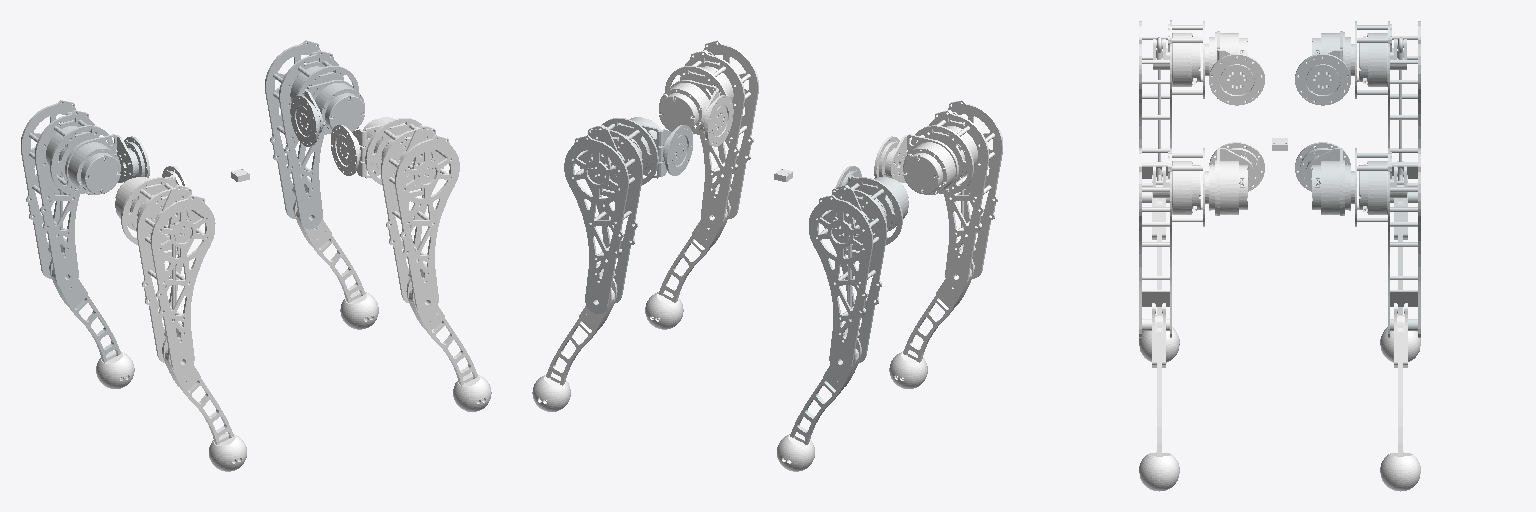
URDF robot description (newdog6):
<?xml version="1.0" encoding="utf-8"?>
<!-- This URDF was automatically created by SolidWorks to URDF Exporter! Originally created by Stephen Brawner (brawner@gmail.com) 
     Commit Version: 1.6.0-4-g7f85cfe  Build Version: 1.6.7995.38578
     For more information, please see http://wiki.ros.org/sw_urdf_exporter -->
<robot
  name="newdog6">
  <link
    name="base_link">
    <inertial>
      <origin
        xyz="3.33066907387547E-16 -1.52308721190764E-15 8.67361737988404E-19"
        rpy="0 0 0" />
      <mass
        value="0.0010000" />
      <inertia
        ixx="0.0000000"
        ixy="0.0000000"
        ixz="0.0000000"
        iyy="0.0000000"
        iyz="0.0000000"
        izz="0.0000000" />
    </inertial>
    <visual>
      <origin
        xyz="0 0 0"
        rpy="0 0 0" />
      <geometry>
        <mesh
          filename="package://newdog6/meshes/base_link.STL" />
      </geometry>
      <material
        name="">
        <color
          rgba="1 1 1 1" />
      </material>
    </visual>
    <collision>
      <origin
        xyz="0 0 0"
        rpy="0 0 0" />
      <geometry>
        <mesh
          filename="package://newdog6/meshes/base_link.STL" />
      </geometry>
    </collision>
  </link>
  <link
    name="trunk_link">
    <inertial>
      <origin
        xyz="-0.000914596355784433 -0.00588588083227733 -0.010166690928992"
        rpy="0 0 0" />
      <mass
        value="4.6043039" />
      <inertia
        ixx="0.0304155"
        ixy="-0.0001536"
        ixz="-0.0000979"
        iyy="0.0576475"
        iyz="0.0001516"
        izz="0.0768428" />
    </inertial>
    <visual>
      <origin
        xyz="0 0 0"
        rpy="0 0 0" />
      <geometry>
        <mesh
          filename="package://newdog6/meshes/trunk_link.STL" />
      </geometry>
      <material
        name="">
        <color
          rgba="0 1 1 1" />
      </material>
    </visual>
    <collision>
      <origin
        xyz="0 0 0"
        rpy="0 0 0" />
      <geometry>
        <mesh
          filename="package://newdog6/meshes/trunk_link.STL" />
      </geometry>
    </collision>
  </link>
  <joint
    name="trunk_joint"
    type="fixed">
    <origin
      xyz="0 0 0"
      rpy="0 0 0" />
    <parent
      link="base_link" />
    <child
      link="trunk_link" />
    <axis
      xyz="0 0 0" />
  </joint>
  <link
    name="FL_hip_link">
    <inertial>
      <origin
        xyz="-0.0276629050724052 0.016035850006277 -4.34859680496094E-05"
        rpy="0 0 0" />
      <mass
        value="1.0790672" />
      <inertia
        ixx="0.0008140"
        ixy="-0.0001481"
        ixz="-0.0000001"
        iyy="0.0015634"
        iyz="-0.0000034"
        izz="0.0013876" />
    </inertial>
    <visual>
      <origin
        xyz="0 0 0"
        rpy="0 0 0" />
      <geometry>
        <mesh
          filename="package://newdog6/meshes/FL_hip_link.STL" />
      </geometry>
      <material
        name="">
        <color
          rgba="0.898039215686275 0.917647058823529 0.929411764705882 1" />
      </material>
    </visual>
    <collision>
      <origin
        xyz="0 0 0"
        rpy="0 0 0" />
      <geometry>
        <mesh
          filename="package://newdog6/meshes/FL_hip_link.STL" />
      </geometry>
    </collision>
  </link>
  <joint
    name="FL_hip_joint"
    type="revolute">
    <origin
      xyz="0.219736600000002 0.0625499999999842 0"
      rpy="0 0 0" />
    <parent
      link="trunk_link" />
    <child
      link="FL_hip_link" />
    <axis
      xyz="-1 0 0" />
    <limit
      lower="-3.14"
      upper="3.14"
      effort="100"
      velocity="100" />
  </joint>
  <link
    name="FL_thigh_link">
    <inertial>
      <origin
        xyz="-0.00210612954326371 -0.017979133783313 -0.0414558494179686"
        rpy="0 0 0" />
      <mass
        value="0.9731943" />
      <inertia
        ixx="0.0041173"
        ixy="0.0000197"
        ixz="-0.0000843"
        iyy="0.0037838"
        iyz="0.0005416"
        izz="0.0012491" />
    </inertial>
    <visual>
      <origin
        xyz="0 0 0"
        rpy="0 0 0" />
      <geometry>
        <mesh
          filename="package://newdog6/meshes/FL_thigh_link.STL" />
      </geometry>
      <material
        name="">
        <color
          rgba="0.898039215686275 0.917647058823529 0.929411764705882 1" />
      </material>
    </visual>
    <collision>
      <origin
        xyz="0 0 0"
        rpy="0 0 0" />
      <geometry>
        <mesh
          filename="package://newdog6/meshes/FL_thigh_link.STL" />
      </geometry>
    </collision>
  </link>
  <joint
    name="FL_thigh_joint"
    type="revolute">
    <origin
      xyz="0 0.113000000000016 4.99999999798882E-05"
      rpy="0 0 0" />
    <parent
      link="FL_hip_link" />
    <child
      link="FL_thigh_link" />
    <axis
      xyz="0 -1 0" />
    <limit
      lower="-3.14"
      upper="3.14"
      effort="100"
      velocity="100" />
  </joint>
  <link
    name="FL_calf_link">
    <inertial>
      <origin
        xyz="0.029709682929484 0 -0.0541898203319179"
        rpy="0 0 0" />
      <mass
        value="0.1721409" />
      <inertia
        ixx="0.0006017"
        ixy="0.0000000"
        ixz="0.0003146"
        iyy="0.0007876"
        iyz="0.0000000"
        izz="0.0001958" />
    </inertial>
    <visual>
      <origin
        xyz="0 0 0"
        rpy="0 0 0" />
      <geometry>
        <mesh
          filename="package://newdog6/meshes/FL_calf_link.STL" />
      </geometry>
      <material
        name="">
        <color
          rgba="1 1 1 1" />
      </material>
    </visual>
    <collision>
      <origin
        xyz="0 0 0"
        rpy="0 0 0" />
      <geometry>
        <mesh
          filename="package://newdog6/meshes/FL_calf_link.STL" />
      </geometry>
    </collision>
  </link>
  <joint
    name="FL_calf_joint"
    type="revolute">
    <origin
      xyz="0 0 -0.22"
      rpy="0 0 0" />
    <parent
      link="FL_thigh_link" />
    <child
      link="FL_calf_link" />
    <axis
      xyz="0 -1 0" />
    <limit
      lower="-3.14"
      upper="3.14"
      effort="100"
      velocity="100" />
  </joint>
  <link
    name="FL_foot_link">
    <inertial>
      <origin
        xyz="-0.000434487403069644 -4.88152118440777E-05 0.00143083743856554"
        rpy="0 0 0" />
      <mass
        value="0.0347400" />
      <inertia
        ixx="0.0000126"
        ixy="0.0000000"
        ixz="-0.0000002"
        iyy="0.0000127"
        iyz="0.0000000"
        izz="0.0000134" />
    </inertial>
    <visual>
      <origin
        xyz="0 0 0"
        rpy="0 0 0" />
      <geometry>
        <mesh
          filename="package://newdog6/meshes/FL_foot_link.STL" />
      </geometry>
      <material
        name="">
        <color
          rgba="1 1 1 1" />
      </material>
    </visual>
    <collision>
      <origin
        xyz="0 0 0"
        rpy="0 0 0" />
      <geometry>
        <mesh
          filename="package://newdog6/meshes/FL_foot_link.STL" />
      </geometry>
    </collision>
  </link>
  <joint
    name="FL_foot_joint"
    type="fixed">
    <origin
      xyz="0.0973276095561573 0 -0.192474513805197"
      rpy="0 0 0" />
    <parent
      link="FL_calf_link" />
    <child
      link="FL_foot_link" />
    <axis
      xyz="0 0 0" />
  </joint>
  <link
    name="FR_hip_link">
    <inertial>
      <origin
        xyz="-0.0276628528131069 -0.0160358508109809 -4.34381982263978E-05"
        rpy="0 0 0" />
      <mass
        value="1.0790672" />
      <inertia
        ixx="0.0008140"
        ixy="0.0001481"
        ixz="-0.0000001"
        iyy="0.0015634"
        iyz="0.0000034"
        izz="0.0013876" />
    </inertial>
    <visual>
      <origin
        xyz="0 0 0"
        rpy="0 0 0" />
      <geometry>
        <mesh
          filename="package://newdog6/meshes/FR_hip_link.STL" />
      </geometry>
      <material
        name="">
        <color
          rgba="1 1 1 1" />
      </material>
    </visual>
    <collision>
      <origin
        xyz="0 0 0"
        rpy="0 0 0" />
      <geometry>
        <mesh
          filename="package://newdog6/meshes/FR_hip_link.STL" />
      </geometry>
    </collision>
  </link>
  <joint
    name="FR_hip_joint"
    type="revolute">
    <origin
      xyz="0.219736600000002 -0.0625499999999764 0"
      rpy="0 0 0" />
    <parent
      link="trunk_link" />
    <child
      link="FR_hip_link" />
    <axis
      xyz="-1 0 0" />
    <limit
      lower="-3.14"
      upper="3.14"
      effort="100"
      velocity="100" />
  </joint>
  <link
    name="FR_thigh_link">
    <inertial>
      <origin
        xyz="-0.00209533874610202 0.0179687463771217 -0.0414935976624587"
        rpy="0 0 0" />
      <mass
        value="0.9703371" />
      <inertia
        ixx="0.0041041"
        ixy="-0.0000197"
        ixz="-0.0000830"
        iyy="0.0037681"
        iyz="-0.0005429"
        izz="0.0012468" />
    </inertial>
    <visual>
      <origin
        xyz="0 0 0"
        rpy="0 0 0" />
      <geometry>
        <mesh
          filename="package://newdog6/meshes/FR_thigh_link.STL" />
      </geometry>
      <material
        name="">
        <color
          rgba="1 1 1 1" />
      </material>
    </visual>
    <collision>
      <origin
        xyz="0 0 0"
        rpy="0 0 0" />
      <geometry>
        <mesh
          filename="package://newdog6/meshes/FR_thigh_link.STL" />
      </geometry>
    </collision>
  </link>
  <joint
    name="FR_thigh_joint"
    type="revolute">
    <origin
      xyz="0 -0.112999999999979 4.99999999777215E-05"
      rpy="0 0 0" />
    <parent
      link="FR_hip_link" />
    <child
      link="FR_thigh_link" />
    <axis
      xyz="0 1 0" />
    <limit
      lower="-3.14"
      upper="3.14"
      effort="100"
      velocity="100" />
  </joint>
  <link
    name="FR_calf_link">
    <inertial>
      <origin
        xyz="0.0297992449880842 2.48412401759879E-14 -0.0544216887469687"
        rpy="0 0 0" />
      <mass
        value="0.1716383" />
      <inertia
        ixx="0.0005985"
        ixy="0.0000000"
        ixz="0.0003134"
        iyy="0.0007840"
        iyz="0.0000000"
        izz="0.0001953" />
    </inertial>
    <visual>
      <origin
        xyz="0 0 0"
        rpy="0 0 0" />
      <geometry>
        <mesh
          filename="package://newdog6/meshes/FR_calf_link.STL" />
      </geometry>
      <material
        name="">
        <color
          rgba="1 1 1 1" />
      </material>
    </visual>
    <collision>
      <origin
        xyz="0 0 0"
        rpy="0 0 0" />
      <geometry>
        <mesh
          filename="package://newdog6/meshes/FR_calf_link.STL" />
      </geometry>
    </collision>
  </link>
  <joint
    name="FR_calf_joint"
    type="revolute">
    <origin
      xyz="0 0 -0.219999999999998"
      rpy="0 0 0" />
    <parent
      link="FR_thigh_link" />
    <child
      link="FR_calf_link" />
    <axis
      xyz="0 1 0" />
    <limit
      lower="-3.14"
      upper="3.14"
      effort="100"
      velocity="100" />
  </joint>
  <link
    name="FR_foot_link">
    <inertial>
      <origin
        xyz="-0.000434485186400074 4.88181155063883E-05 0.00143083744492206"
        rpy="0 0 0" />
      <mass
        value="0.0347400" />
      <inertia
        ixx="0.0000126"
        ixy="0.0000000"
        ixz="-0.0000002"
        iyy="0.0000127"
        iyz="0.0000000"
        izz="0.0000134" />
    </inertial>
    <visual>
      <origin
        xyz="0 0 0"
        rpy="0 0 0" />
      <geometry>
        <mesh
          filename="package://newdog6/meshes/FR_foot_link.STL" />
      </geometry>
      <material
        name="">
        <color
          rgba="1 1 1 1" />
      </material>
    </visual>
    <collision>
      <origin
        xyz="0 0 0"
        rpy="0 0 0" />
      <geometry>
        <mesh
          filename="package://newdog6/meshes/FR_foot_link.STL" />
      </geometry>
    </collision>
  </link>
  <joint
    name="FR_foot_joint"
    type="fixed">
    <origin
      xyz="0.0973276004566032 0 -0.19247451379526"
      rpy="0 0 0" />
    <parent
      link="FR_calf_link" />
    <child
      link="FR_foot_link" />
    <axis
      xyz="0 0 0" />
  </joint>
  <link
    name="RL_hip_link">
    <inertial>
      <origin
        xyz="0.0275370203353627 0.0160358500062972 -4.34859680274475E-05"
        rpy="0 0 0" />
      <mass
        value="1.0790672" />
      <inertia
        ixx="0.0008140"
        ixy="0.0001473"
        ixz="-0.0000159"
        iyy="0.0015847"
        iyz="-0.0000034"
        izz="0.0014089" />
    </inertial>
    <visual>
      <origin
        xyz="0 0 0"
        rpy="0 0 0" />
      <geometry>
        <mesh
          filename="package://newdog6/meshes/RL_hip_link.STL" />
      </geometry>
      <material
        name="">
        <color
          rgba="0.898039215686275 0.917647058823529 0.929411764705882 1" />
      </material>
    </visual>
    <collision>
      <origin
        xyz="0 0 0"
        rpy="0 0 0" />
      <geometry>
        <mesh
          filename="package://newdog6/meshes/RL_hip_link.STL" />
      </geometry>
    </collision>
  </link>
  <joint
    name="RL_hip_joint"
    type="revolute">
    <origin
      xyz="-0.219736600000007 0.0625499999999842 0"
      rpy="0 0 0" />
    <parent
      link="trunk_link" />
    <child
      link="RL_hip_link" />
    <axis
      xyz="1 0 0" />
    <limit
      lower="-3.14"
      upper="3.14"
      effort="100"
      velocity="100" />
  </joint>
  <link
    name="RL_thigh_link">
    <inertial>
      <origin
        xyz="-0.00210485980149799 -0.0179606285310874 -0.0416139023635643"
        rpy="0 0 0" />
      <mass
        value="0.9736970" />
      <inertia
        ixx="0.0041329"
        ixy="0.0000197"
        ixz="-0.0000842"
        iyy="0.0037992"
        iyz="0.0005436"
        izz="0.0012494" />
    </inertial>
    <visual>
      <origin
        xyz="0 0 0"
        rpy="0 0 0" />
      <geometry>
        <mesh
          filename="package://newdog6/meshes/RL_thigh_link.STL" />
      </geometry>
      <material
        name="">
        <color
          rgba="0.898039215686275 0.917647058823529 0.929411764705882 1" />
      </material>
    </visual>
    <collision>
      <origin
        xyz="0 0 0"
        rpy="0 0 0" />
      <geometry>
        <mesh
          filename="package://newdog6/meshes/RL_thigh_link.STL" />
      </geometry>
    </collision>
  </link>
  <joint
    name="RL_thigh_joint"
    type="revolute">
    <origin
      xyz="0 0.113000000000016 5.00000000046436E-05"
      rpy="0 0 0" />
    <parent
      link="RL_hip_link" />
    <child
      link="RL_thigh_link" />
    <axis
      xyz="0 -1 0" />
    <limit
      lower="-3.14"
      upper="3.14"
      effort="100"
      velocity="100" />
  </joint>
  <link
    name="RL_calf_link">
    <inertial>
      <origin
        xyz="0.0297992449881553 0 -0.0544216887469118"
        rpy="0 0 0" />
      <mass
        value="0.1716383" />
      <inertia
        ixx="0.0005985"
        ixy="0.0000000"
        ixz="0.0003134"
        iyy="0.0007840"
        iyz="-0.0000000"
        izz="0.0001953" />
    </inertial>
    <visual>
      <origin
        xyz="0 0 0"
        rpy="0 0 0" />
      <geometry>
        <mesh
          filename="package://newdog6/meshes/RL_calf_link.STL" />
      </geometry>
      <material
        name="">
        <color
          rgba="0.898039215686275 0.917647058823529 0.929411764705882 1" />
      </material>
    </visual>
    <collision>
      <origin
        xyz="0 0 0"
        rpy="0 0 0" />
      <geometry>
        <mesh
          filename="package://newdog6/meshes/RL_calf_link.STL" />
      </geometry>
    </collision>
  </link>
  <joint
    name="RL_calf_joint"
    type="revolute">
    <origin
      xyz="0 0 -0.220000000000003"
      rpy="0 0 0" />
    <parent
      link="RL_thigh_link" />
    <child
      link="RL_calf_link" />
    <axis
      xyz="0 -1 0" />
    <limit
      lower="-3.14"
      upper="3.14"
      effort="100"
      velocity="100" />
  </joint>
  <link
    name="RL_foot_link">
    <inertial>
      <origin
        xyz="-0.000434487402333511 -4.88152118440777E-05 0.00143083743895134"
        rpy="0 0 0" />
      <mass
        value="0.0347400" />
      <inertia
        ixx="0.0000126"
        ixy="0.0000000"
        ixz="-0.0000002"
        iyy="0.0000127"
        iyz="0.0000000"
        izz="0.0000134" />
    </inertial>
    <visual>
      <origin
        xyz="0 0 0"
        rpy="0 0 0" />
      <geometry>
        <mesh
          filename="package://newdog6/meshes/RL_foot_link.STL" />
      </geometry>
      <material
        name="">
        <color
          rgba="1 1 1 1" />
      </material>
    </visual>
    <collision>
      <origin
        xyz="0 0 0"
        rpy="0 0 0" />
      <geometry>
        <mesh
          filename="package://newdog6/meshes/RL_foot_link.STL" />
      </geometry>
    </collision>
  </link>
  <joint
    name="RL_foot_joint"
    type="fixed">
    <origin
      xyz="0.0973276095554418 0 -0.192474513805559"
      rpy="0 0 0" />
    <parent
      link="RL_calf_link" />
    <child
      link="RL_foot_link" />
    <axis
      xyz="0 0 0" />
  </joint>
  <link
    name="RR_hip_link">
    <inertial>
      <origin
        xyz="0.0275370765101425 -0.0160358508110013 -4.34381982040944E-05"
        rpy="0 0 0" />
      <mass
        value="1.0790672" />
      <inertia
        ixx="0.0008140"
        ixy="-0.0001473"
        ixz="-0.0000159"
        iyy="0.0015847"
        iyz="0.0000034"
        izz="0.0014089" />
    </inertial>
    <visual>
      <origin
        xyz="0 0 0"
        rpy="0 0 0" />
      <geometry>
        <mesh
          filename="package://newdog6/meshes/RR_hip_link.STL" />
      </geometry>
      <material
        name="">
        <color
          rgba="1 1 1 1" />
      </material>
    </visual>
    <collision>
      <origin
        xyz="0 0 0"
        rpy="0 0 0" />
      <geometry>
        <mesh
          filename="package://newdog6/meshes/RR_hip_link.STL" />
      </geometry>
    </collision>
  </link>
  <joint
    name="RR_hip_joint"
    type="revolute">
    <origin
      xyz="-0.219736600000007 -0.0625499999999764 0"
      rpy="0 0 0" />
    <parent
      link="trunk_link" />
    <child
      link="RR_hip_link" />
    <axis
      xyz="1 0 0" />
    <limit
      lower="-3.14"
      upper="3.14"
      effort="100"
      velocity="100" />
  </joint>
  <link
    name="RR_thigh_link">
    <inertial>
      <origin
        xyz="-0.00209533874599183 0.0179687463771153 -0.0414935976624584"
        rpy="0 0 0" />
      <mass
        value="0.9703371" />
      <inertia
        ixx="0.0041041"
        ixy="-0.0000197"
        ixz="-0.0000830"
        iyy="0.0037681"
        iyz="-0.0005429"
        izz="0.0012468" />
    </inertial>
    <visual>
      <origin
        xyz="0 0 0"
        rpy="0 0 0" />
      <geometry>
        <mesh
          filename="package://newdog6/meshes/RR_thigh_link.STL" />
      </geometry>
      <material
        name="">
        <color
          rgba="1 1 1 1" />
      </material>
    </visual>
    <collision>
      <origin
        xyz="0 0 0"
        rpy="0 0 0" />
      <geometry>
        <mesh
          filename="package://newdog6/meshes/RR_thigh_link.STL" />
      </geometry>
    </collision>
  </link>
  <joint
    name="RR_thigh_joint"
    type="revolute">
    <origin
      xyz="0 -0.112999999999978 5.00000000001229E-05"
      rpy="0 0 0" />
    <parent
      link="RR_hip_link" />
    <child
      link="RR_thigh_link" />
    <axis
      xyz="0 1 0" />
    <limit
      lower="-3.14"
      upper="3.14"
      effort="100"
      velocity="100" />
  </joint>
  <link
    name="RR_calf_link">
    <inertial>
      <origin
        xyz="0.0297992449880768 4.33542091116124E-14 -0.0544216887469676"
        rpy="0 0 0" />
      <mass
        value="0.1716383" />
      <inertia
        ixx="0.0005985"
        ixy="0.0000000"
        ixz="0.0003134"
        iyy="0.0007840"
        iyz="0.0000000"
        izz="0.0001953" />
    </inertial>
    <visual>
      <origin
        xyz="0 0 0"
        rpy="0 0 0" />
      <geometry>
        <mesh
          filename="package://newdog6/meshes/RR_calf_link.STL" />
      </geometry>
      <material
        name="">
        <color
          rgba="1 1 1 1" />
      </material>
    </visual>
    <collision>
      <origin
        xyz="0 0 0"
        rpy="0 0 0" />
      <geometry>
        <mesh
          filename="package://newdog6/meshes/RR_calf_link.STL" />
      </geometry>
    </collision>
  </link>
  <joint
    name="RR_calf_joint"
    type="revolute">
    <origin
      xyz="0 0 -0.219999999999998"
      rpy="0 0 0" />
    <parent
      link="RR_thigh_link" />
    <child
      link="RR_calf_link" />
    <axis
      xyz="0 1 0" />
    <limit
      lower="-3.14"
      upper="3.14"
      effort="100"
      velocity="100" />
  </joint>
  <link
    name="RR_foot_link">
    <inertial>
      <origin
        xyz="-0.000434485186105227 4.88181155248735E-05 0.00143083744507583"
        rpy="0 0 0" />
      <mass
        value="0.0347400" />
      <inertia
        ixx="0.0000126"
        ixy="0.0000000"
        ixz="-0.0000002"
        iyy="0.0000127"
        iyz="0.0000000"
        izz="0.0000134" />
    </inertial>
    <visual>
      <origin
        xyz="0 0 0"
        rpy="0 0 0" />
      <geometry>
        <mesh
          filename="package://newdog6/meshes/RR_foot_link.STL" />
      </geometry>
      <material
        name="">
        <color
          rgba="1 1 1 1" />
      </material>
    </visual>
    <collision>
      <origin
        xyz="0 0 0"
        rpy="0 0 0" />
      <geometry>
        <mesh
          filename="package://newdog6/meshes/RR_foot_link.STL" />
      </geometry>
    </collision>
  </link>
  <joint
    name="RR_foot_joint"
    type="fixed">
    <origin
      xyz="0.0973276004563028 0 -0.192474513795412"
      rpy="0 0 0" />
    <parent
      link="RR_calf_link" />
    <child
      link="RR_foot_link" />
    <axis
      xyz="0 0 0" />
  </joint>
  <link
    name="imu_link">
    <inertial>
      <origin
        xyz="-0.000126771762738287 2.04697370165263E-16 -0.0330000000000001"
        rpy="0 0 0" />
      <mass
        value="0.0080000" />
      <inertia
        ixx="0.0000004"
        ixy="0.0000000"
        ixz="0.0000000"
        iyy="0.0000004"
        iyz="0.0000000"
        izz="0.0000006" />
    </inertial>
    <visual>
      <origin
        xyz="0 0 0"
        rpy="0 0 0" />
      <geometry>
        <mesh
          filename="package://newdog6/meshes/imu_link.STL" />
      </geometry>
      <material
        name="">
        <color
          rgba="1 1 1 1" />
      </material>
    </visual>
    <collision>
      <origin
        xyz="0 0 0"
        rpy="0 0 0" />
      <geometry>
        <mesh
          filename="package://newdog6/meshes/imu_link.STL" />
      </geometry>
    </collision>
  </link>
  <joint
    name="imu_joint"
    type="fixed">
    <origin
      xyz="0 0 0"
      rpy="0 0 0" />
    <parent
      link="trunk_link" />
    <child
      link="imu_link" />
    <axis
      xyz="0 0 0" />
  </joint>
</robot>

--- Render facts (derived) ---
The picture shows the robot from 3 angles, left to right: view 1: azimuth 30°, elevation 25°; view 2: azimuth 150°, elevation 25°; view 3: azimuth 270°, elevation 25°; orthographic projection.
Robot: newdog6 — 19 links, 18 joints (12 revolute, 6 fixed); root link base_link; default pose: all joints at 0.
Links seen in each view (by area): view 1: FR_thigh_link, RR_thigh_link, RL_thigh_link, FL_thigh_link, RL_hip_link, FL_hip_link, FR_hip_link, RR_calf_link, FR_calf_link, FL_calf_link, RL_calf_link, FL_foot_link (+4 smaller); view 2: RL_thigh_link, FL_thigh_link, RR_thigh_link, FR_thigh_link, RR_hip_link, FR_hip_link, FL_hip_link, RL_calf_link, FL_calf_link, FR_calf_link, RR_calf_link, FR_foot_link (+4 smaller); view 3: FR_thigh_link, FL_thigh_link, RR_thigh_link, RL_thigh_link, FL_hip_link, FR_hip_link, RL_hip_link, RR_hip_link, FL_foot_link, FR_foot_link, FL_calf_link, FR_calf_link (+4 smaller).
Link boxes in pixels (left/top/right/bottom): FR_thigh_link: left=365, top=118, right=459, bottom=313; RR_thigh_link: left=121, top=177, right=215, bottom=373; RL_thigh_link: left=21, top=100, right=112, bottom=288; FL_thigh_link: left=265, top=40, right=358, bottom=229; RL_hip_link: left=65, top=134, right=149, bottom=194; FL_hip_link: left=290, top=80, right=364, bottom=146; FR_hip_link: left=331, top=117, right=400, bottom=178; RR_calf_link: left=162, top=338, right=233, bottom=444; FR_calf_link: left=406, top=278, right=477, bottom=385; FL_calf_link: left=294, top=200, right=365, bottom=302; RL_calf_link: left=50, top=259, right=120, bottom=362; FL_foot_link: left=340, top=291, right=378, bottom=329; RL_thigh_link: left=809, top=177, right=902, bottom=373; FL_thigh_link: left=564, top=118, right=658, bottom=313; RR_thigh_link: left=911, top=100, right=1002, bottom=288; FR_thigh_link: left=665, top=40, right=758, bottom=229; RR_hip_link: left=874, top=134, right=958, bottom=194; FR_hip_link: left=659, top=80, right=733, bottom=146; FL_hip_link: left=623, top=117, right=692, bottom=178; RL_calf_link: left=790, top=338, right=861, bottom=444; FL_calf_link: left=546, top=278, right=617, bottom=385; FR_calf_link: left=658, top=200, right=729, bottom=302; RR_calf_link: left=903, top=259, right=973, bottom=362; FR_foot_link: left=645, top=291, right=683, bottom=329; FR_thigh_link: left=1139, top=148, right=1208, bottom=337; FL_thigh_link: left=1351, top=148, right=1420, bottom=337; RR_thigh_link: left=1139, top=20, right=1208, bottom=202; RL_thigh_link: left=1351, top=21, right=1420, bottom=202; FL_hip_link: left=1295, top=142, right=1350, bottom=215; FR_hip_link: left=1209, top=142, right=1264, bottom=215; RL_hip_link: left=1295, top=31, right=1350, bottom=105; RR_hip_link: left=1209, top=31, right=1264, bottom=105; FL_foot_link: left=1380, top=452, right=1420, bottom=491; FR_foot_link: left=1139, top=452, right=1179, bottom=491; FL_calf_link: left=1394, top=303, right=1407, bottom=455; FR_calf_link: left=1152, top=303, right=1165, bottom=455.
Bounding box of the posed robot: 0.6235 × 0.411 × 0.5016 m (x, y, z).
Meshes: 19 distinct files referenced, 17 mesh visuals loaded (17 binary STL); not drawn: 2 (reference not matched to a file when rendering).
